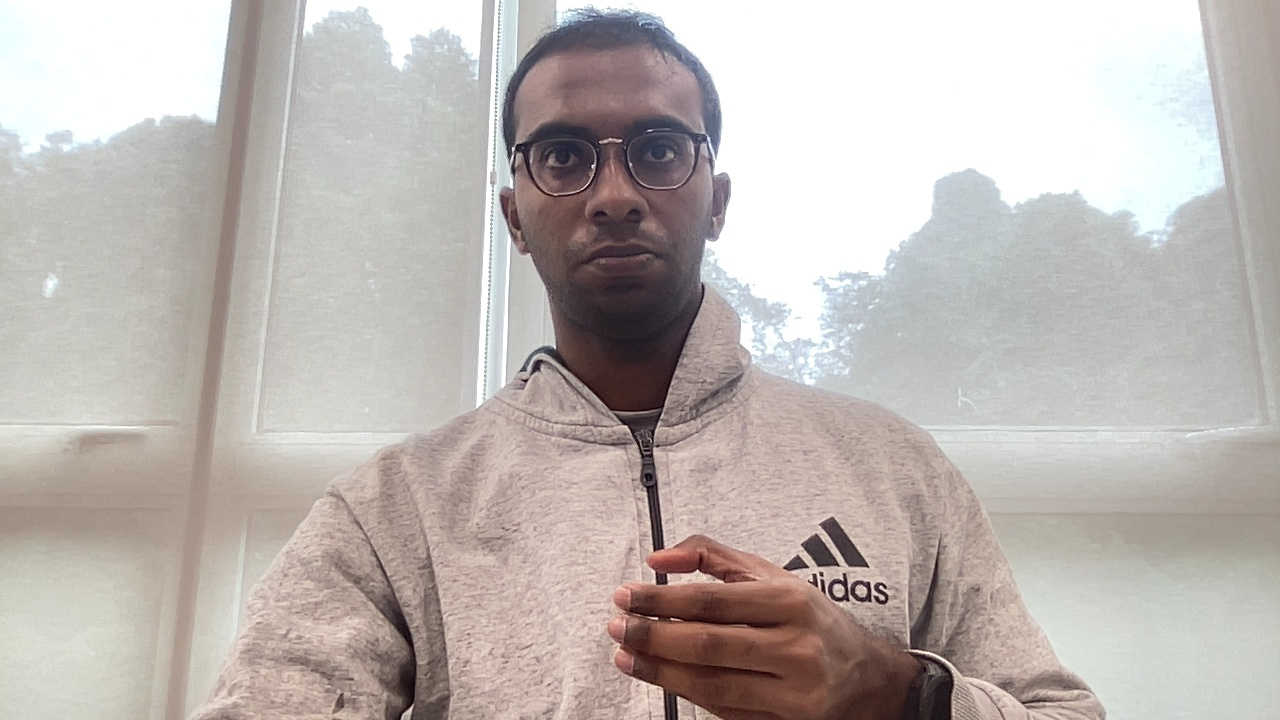drink: (596, 528, 895, 719)
